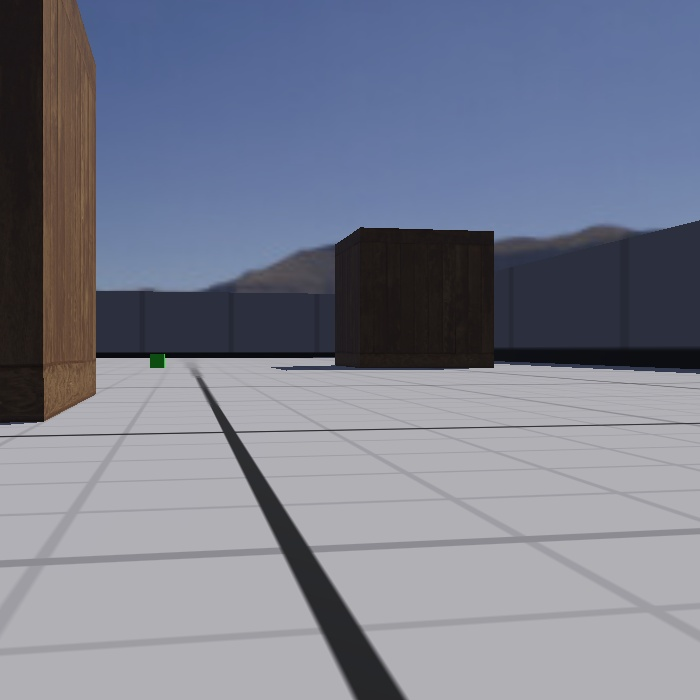cubo_verde: (141, 342, 171, 375)
obstaculo: (0, 0, 111, 437), (326, 215, 504, 376)
